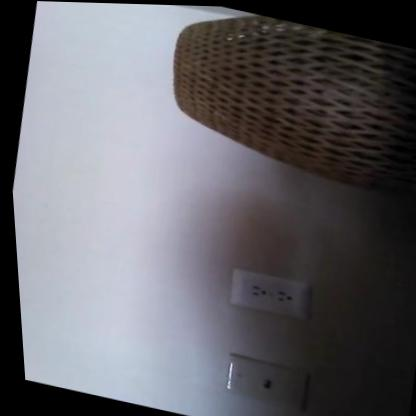OUTLET: (225, 265, 314, 321)
